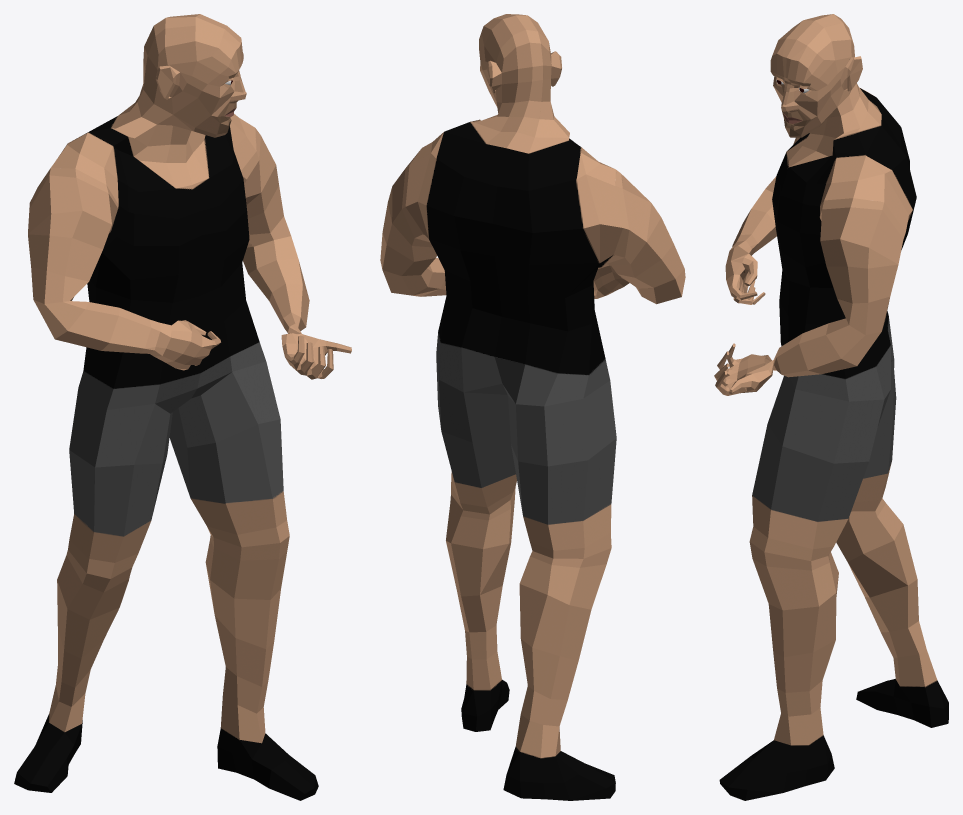
The model's file is PlayerIdle(130).obj.
The picture shows the model from 3 angles, left to right: view 1: azimuth 30°, elevation 25°; view 2: azimuth 150°, elevation 25°; view 3: azimuth 270°, elevation 25°; orthographic projection. The views are drawn at different scales.
Parts seen in each view (by area): view 1: Plane002; view 2: Plane002; view 3: Plane002.
Part boxes in pixels (left/top/right/bottom): Plane002: left=14, top=14, right=351, bottom=800; Plane002: left=380, top=14, right=685, bottom=800; Plane002: left=714, top=14, right=948, bottom=800.
Bounding box in the file's own units: 698 × 1795 × 517.
